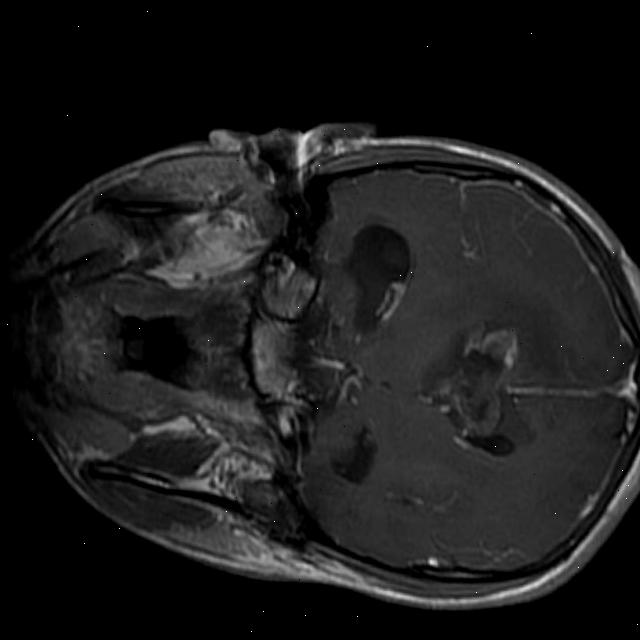Glioma: (445, 321, 522, 439)
Pituitary: (250, 318, 302, 399)
